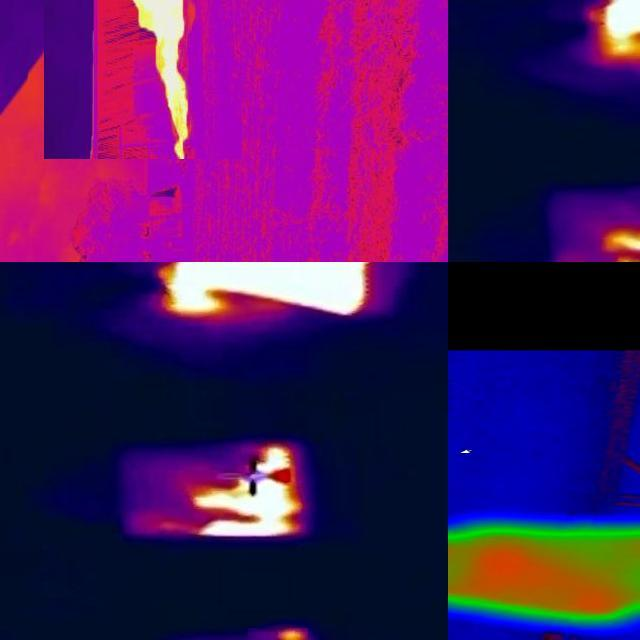fire: (189, 442, 306, 538), (159, 263, 370, 316), (133, 1, 195, 162), (596, 1, 640, 70), (599, 224, 640, 263), (249, 628, 309, 640)
